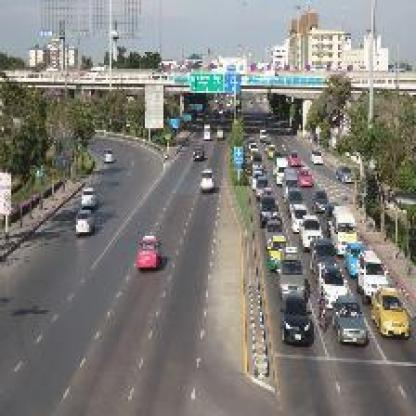other: (364, 285, 412, 343), (130, 232, 161, 270)
